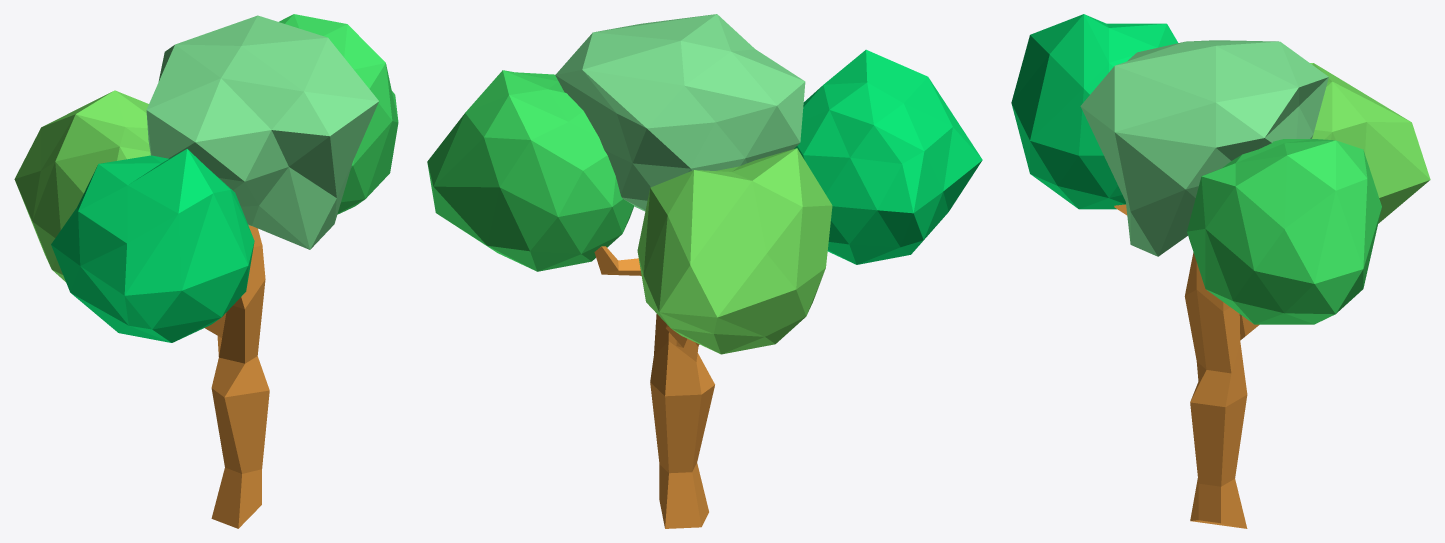
Rendered from tree.fbx.
3 views of the same model, side by side, from view 1: azimuth 30°, elevation 25°; view 2: azimuth 150°, elevation 25°; view 3: azimuth 270°, elevation 25° (orthographic). The views are drawn at different scales.
Parts seen in each view (by area): view 1: Icosphere, Icosphere.003, Cylinder, Icosphere.002, Icosphere.001; view 2: Icosphere, Icosphere.002, Icosphere.001, Icosphere.003, Cylinder; view 3: Icosphere, Icosphere.001, Icosphere.003, Cylinder, Icosphere.002.
Boxes of the visible parts, x1,y1,x2,y2 form: Icosphere: [146, 15, 378, 249]; Icosphere.003: [51, 149, 254, 342]; Cylinder: [205, 225, 269, 528]; Icosphere.002: [14, 90, 150, 281]; Icosphere.001: [279, 14, 398, 214]; Icosphere: [555, 14, 805, 211]; Icosphere.002: [637, 148, 832, 354]; Icosphere.001: [427, 70, 633, 271]; Icosphere.003: [794, 49, 982, 264]; Cylinder: [594, 246, 714, 528]; Icosphere: [1080, 40, 1328, 256]; Icosphere.001: [1187, 139, 1381, 324]; Icosphere.003: [1011, 14, 1177, 209]; Cylinder: [1114, 204, 1259, 528]; Icosphere.002: [1310, 63, 1430, 223].
Bounding box in the file's own units: 2063 × 2250 × 1770.
